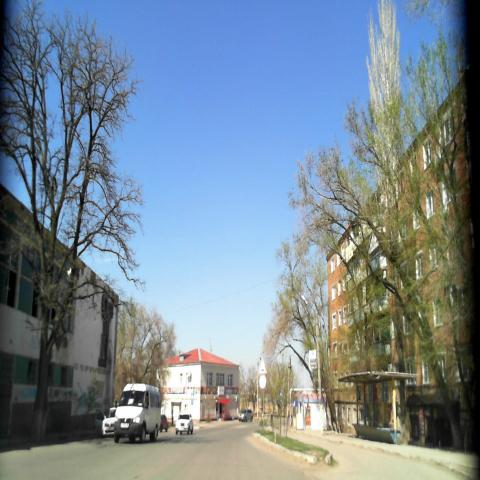1_17: (258, 356, 268, 376)
